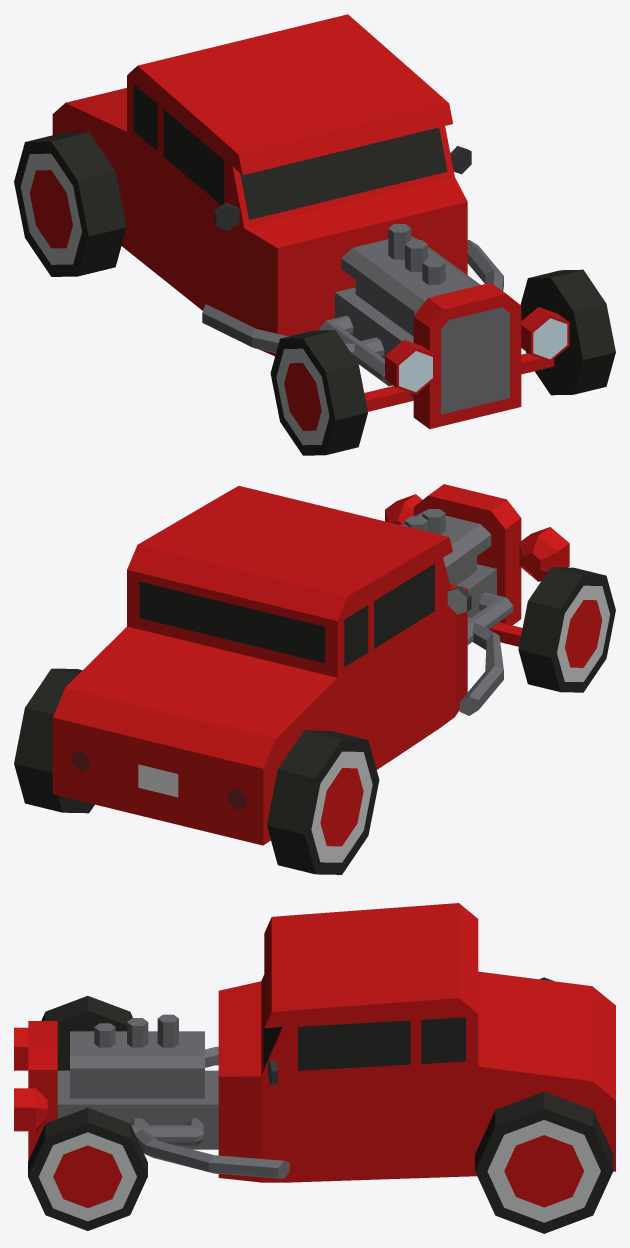
Rendered from Veh_HotRod_Red.obj.
3 views of the same model, one above another, from view 1: azimuth 30°, elevation 25°; view 2: azimuth 150°, elevation 25°; view 3: azimuth 270°, elevation 25° (orthographic). The views are drawn at different scales.
Size of the model in its own units: 1.21 by 0.9391 by 2.35.
